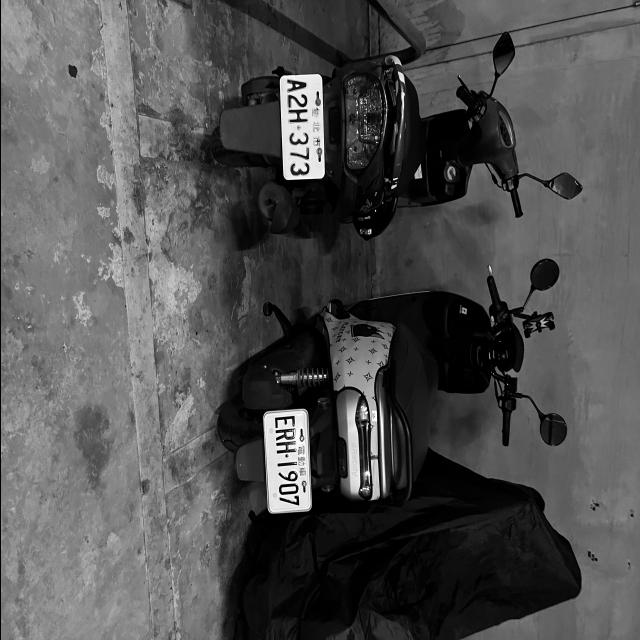-: (296, 126, 302, 130), (284, 453, 288, 458)
0: (278, 482, 298, 496)
1: (276, 461, 296, 468)
2: (287, 92, 307, 109)
3: (290, 162, 312, 176), (288, 133, 310, 145)
7: (289, 147, 309, 161), (278, 496, 300, 506)
9: (278, 470, 298, 482)
A: (286, 78, 308, 94)
E: (274, 415, 294, 428)
H: (288, 108, 308, 125), (276, 442, 296, 454)
R: (274, 428, 294, 441)
plate: (266, 410, 309, 514), (284, 74, 320, 180)
